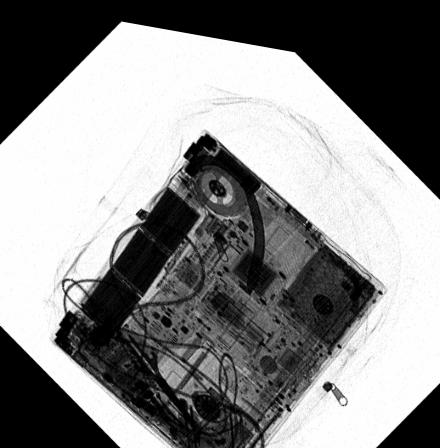Scissors: (121, 327, 203, 426)
